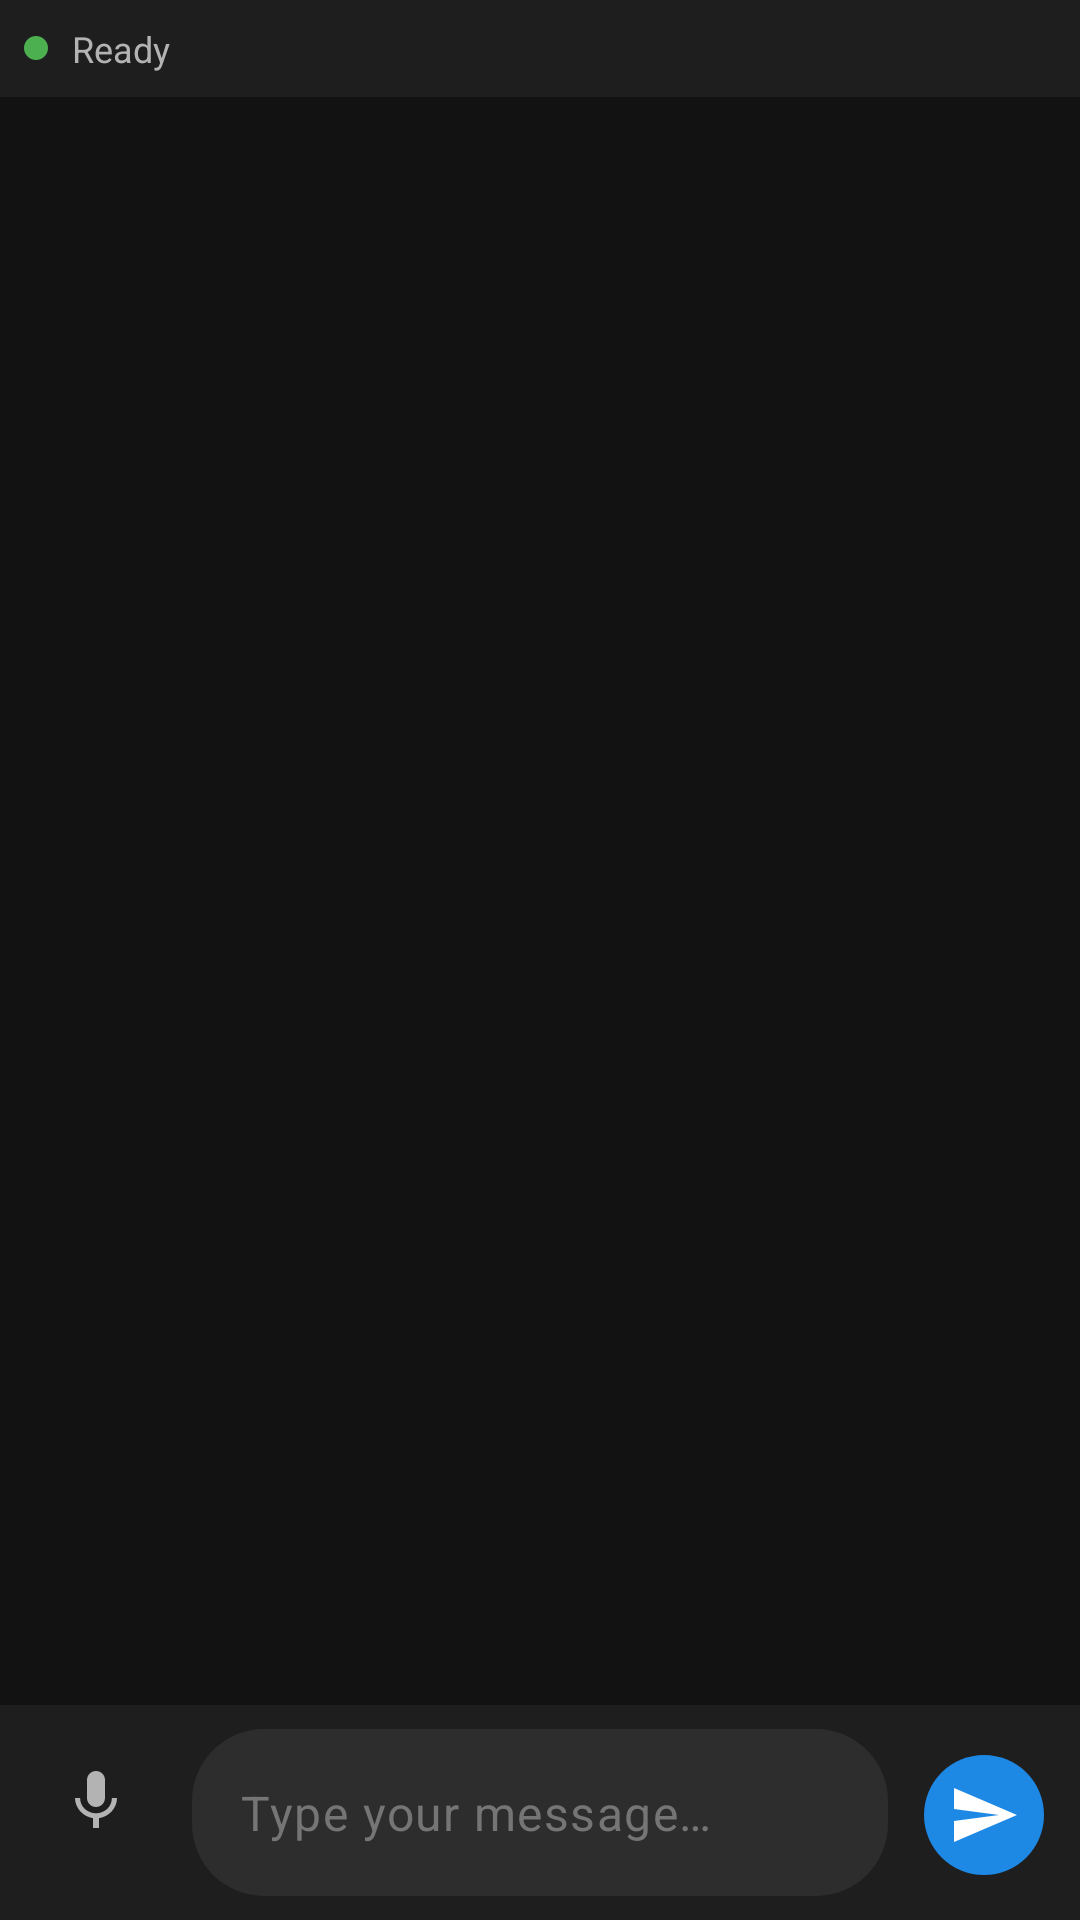

Icons on this 1080x1920 Android screen, each with its box as (x1, y1, x2, y2):
Send message: (924, 1755, 1044, 1875)
status indicator: (24, 36, 48, 60)
